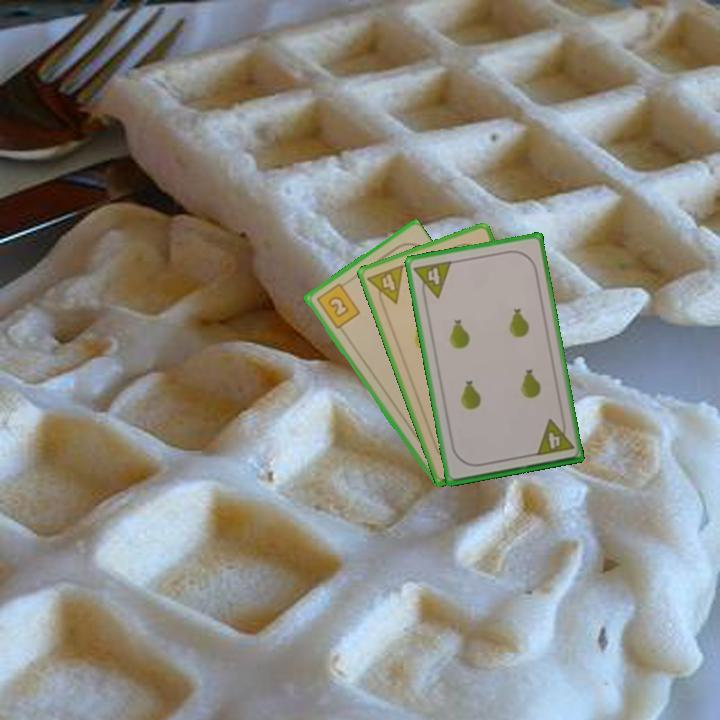2b: (313, 278, 362, 331)
4p: (364, 261, 407, 311), (410, 257, 455, 303), (532, 414, 576, 458)
